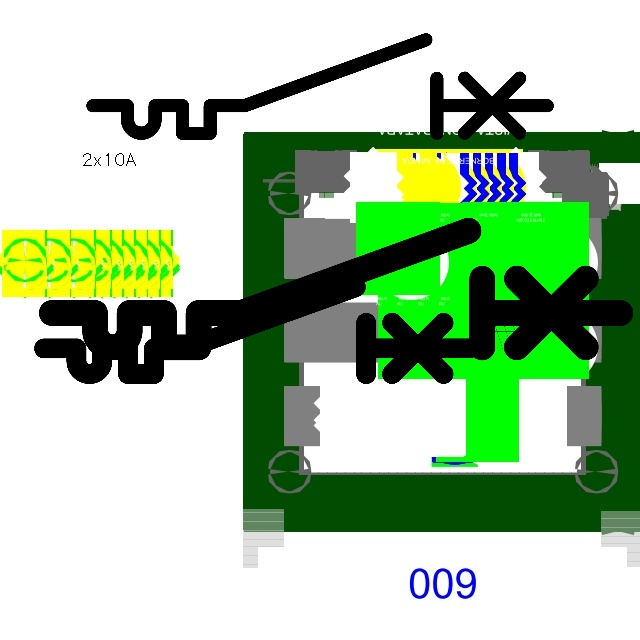interruptor_termomagnetico: (37, 216, 635, 362), (81, 28, 559, 145), (33, 276, 480, 385)
